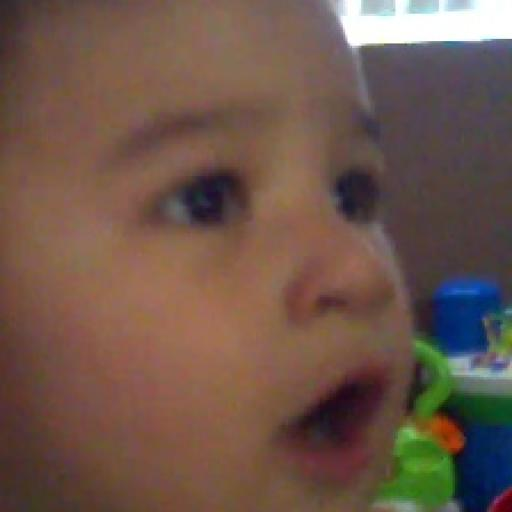Autism: (0, 0, 439, 512)
